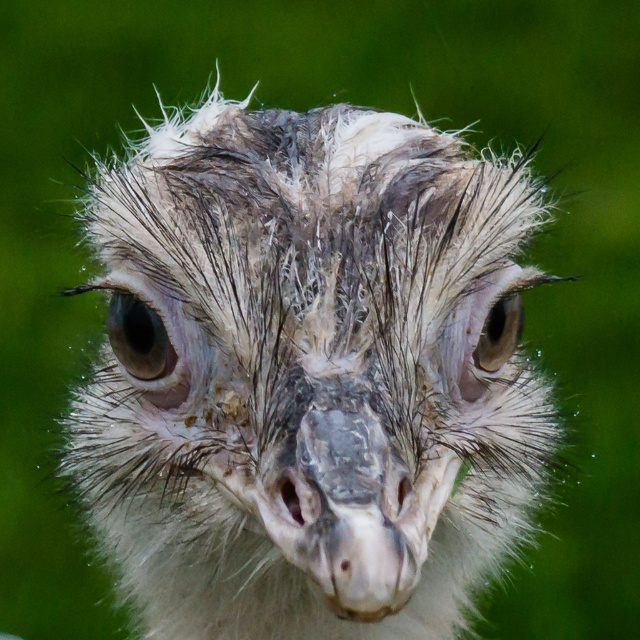Ostrich: (52, 98, 589, 638)
